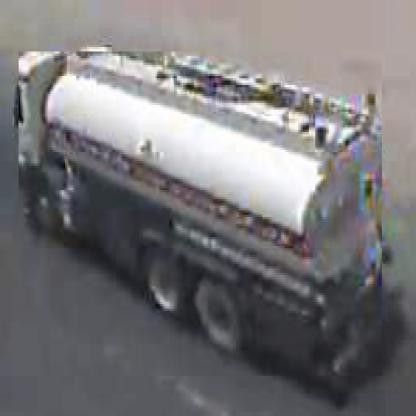truck: (20, 52, 385, 379)
